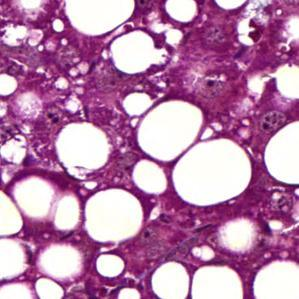steatosis: (174, 138, 250, 206), (136, 101, 205, 158), (85, 191, 146, 243), (110, 28, 165, 75)
